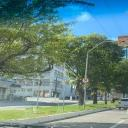speed_limit_50: (80, 77, 90, 84)
